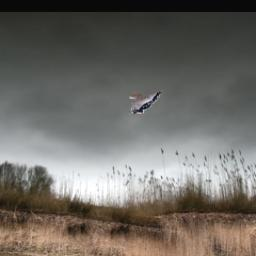Woodpecker: (129, 90, 163, 114)
